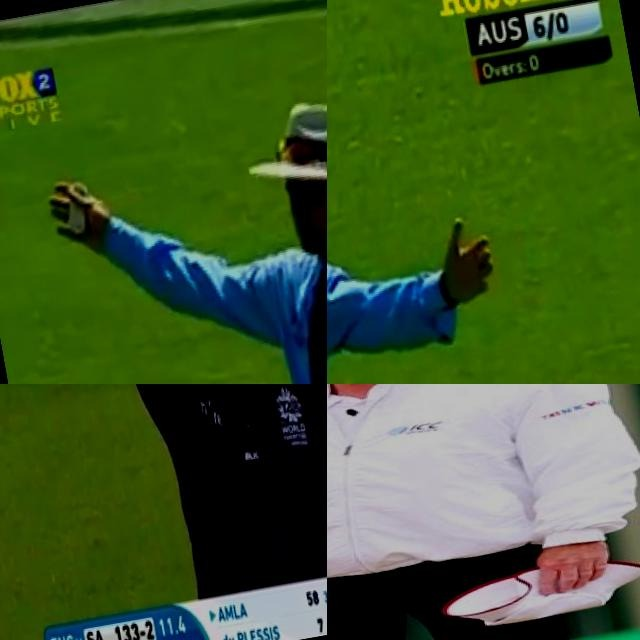No_Action: (327, 384, 640, 640)
No_Ball: (327, 59, 551, 384)
Out: (83, 384, 327, 640)
Wide: (35, 58, 327, 384)
